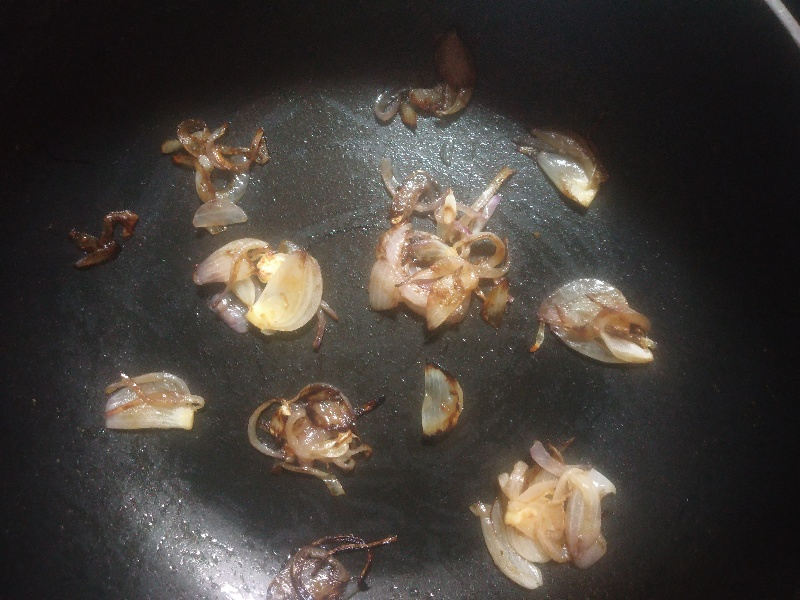onion_fried: (371, 174, 504, 328), (243, 382, 358, 487), (162, 112, 261, 228), (419, 359, 462, 437)
onion_golden: (477, 437, 607, 588), (195, 241, 327, 344), (101, 372, 201, 432)
